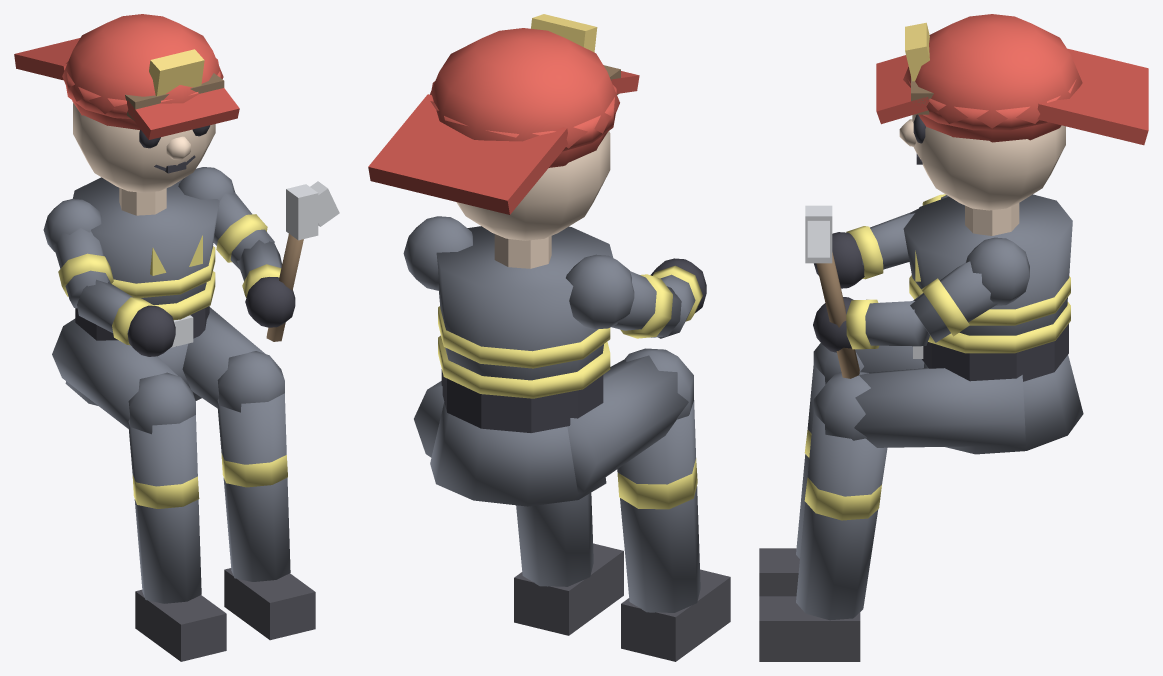
Rendered from meeple_15_feuerwehr.glb.
3 views of the same model, side by side, from view 1: azimuth 30°, elevation 25°; view 2: azimuth 150°, elevation 25°; view 3: azimuth 270°, elevation 25° (orthographic). The views are drawn at different scales.
Parts seen in each view (by area): view 1: meeple_15_feuerwehr; view 2: meeple_15_feuerwehr; view 3: meeple_15_feuerwehr.
Part boxes in pixels (x1,y1,x2,y2): meeple_15_feuerwehr: (14,14,339,661); meeple_15_feuerwehr: (368,14,730,661); meeple_15_feuerwehr: (759,14,1148,661).
Size of the model in its own units: 0.5576 by 1.35 by 0.79.
